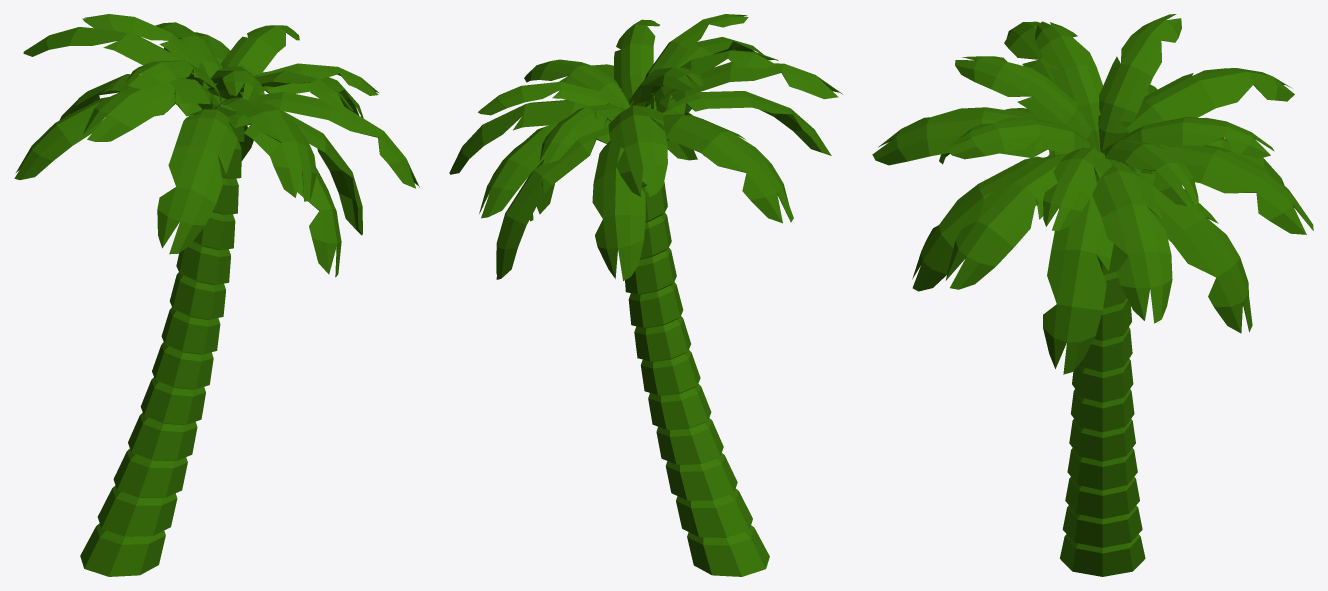
The model's file is Tree_004.fbx.
3 renders of one model, left to right at view 1: azimuth 30°, elevation 25°; view 2: azimuth 150°, elevation 25°; view 3: azimuth 270°, elevation 25°, orthographic. The views are drawn at different scales.
Parts seen in each view (by area): view 1: Tree_004; view 2: Tree_004; view 3: Tree_004.
Part boxes in pixels (bbox=[...]): Tree_004: bbox=[14, 14, 419, 576]; Tree_004: bbox=[449, 14, 842, 576]; Tree_004: bbox=[872, 14, 1313, 576].
Size of the model in its own units: 358 by 511 by 370.
